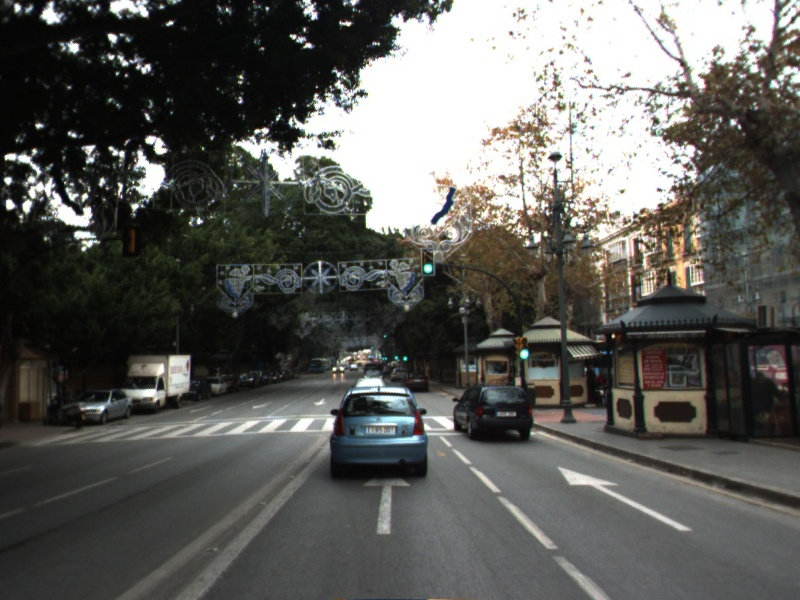STRAIGHT: (554, 463, 697, 534), (360, 474, 413, 536)
